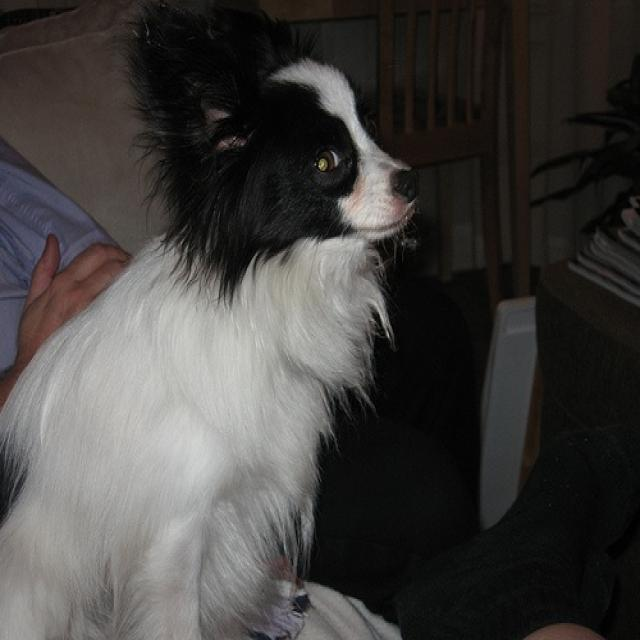dog: (1, 1, 419, 636)
